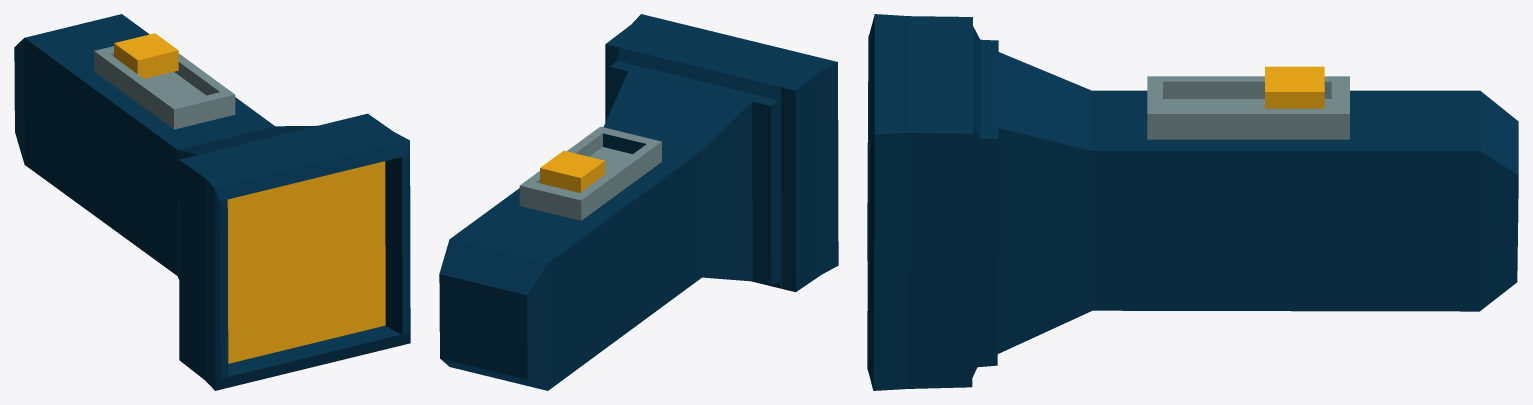
File: flashlight.fbx
The picture shows the model from 3 angles, left to right: view 1: azimuth 30°, elevation 25°; view 2: azimuth 150°, elevation 25°; view 3: azimuth 270°, elevation 25°; orthographic projection. The views are drawn at different scales.
Visible parts, largest first — view 1: FlashlightBase, FlashlightSwitch; view 2: FlashlightBase, FlashlightSwitch; view 3: FlashlightBase, FlashlightSwitch.
Boxes of the visible parts, left/top/right/bottom form: FlashlightBase: left=14, top=14, right=410, bottom=390; FlashlightSwitch: left=114, top=33, right=178, bottom=78; FlashlightBase: left=439, top=14, right=838, bottom=390; FlashlightSwitch: left=540, top=150, right=604, bottom=192; FlashlightBase: left=867, top=14, right=1518, bottom=390; FlashlightSwitch: left=1265, top=66, right=1324, bottom=108.
Bounding box in the file's own units: 15.74 × 15.59 × 35.91.
